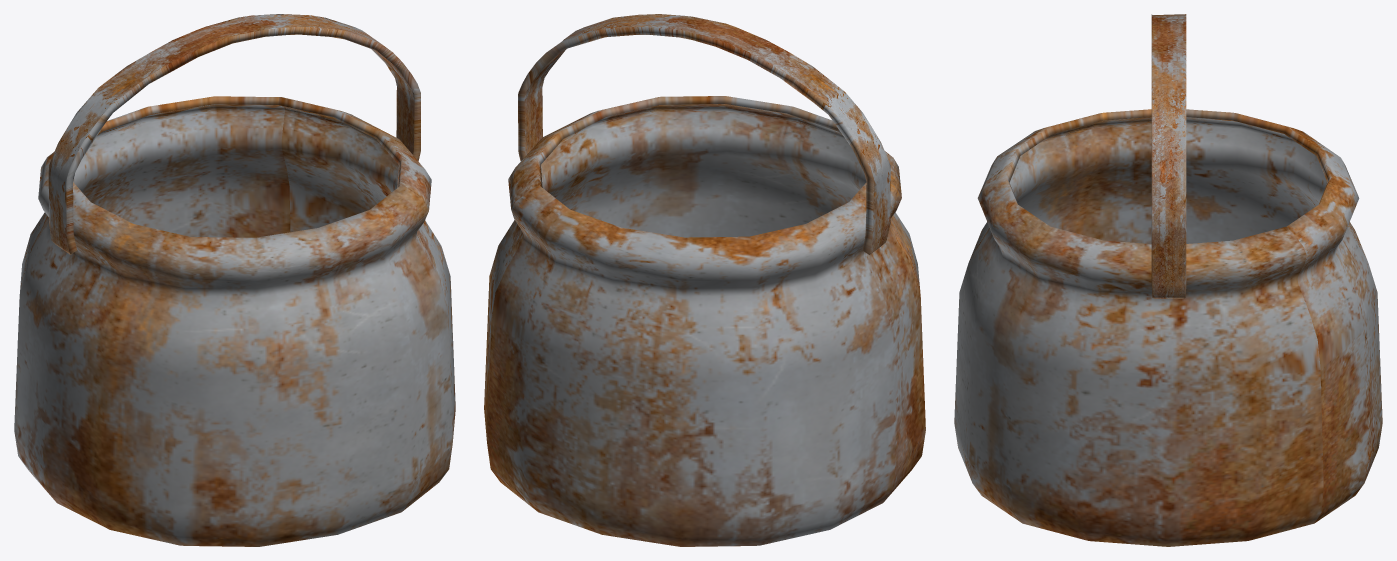
File: SM_pot01.fbx
The picture shows the model from 3 angles, left to right: view 1: azimuth 30°, elevation 25°; view 2: azimuth 150°, elevation 25°; view 3: azimuth 270°, elevation 25°; orthographic projection. The views are drawn at different scales.
Visible parts, largest first — view 1: SM_pot01_LOD0; view 2: SM_pot01_LOD0; view 3: SM_pot01_LOD0.
Part boxes in pixels (left/top/right/bottom): SM_pot01_LOD0: left=14, top=14, right=455, bottom=546; SM_pot01_LOD0: left=484, top=14, right=925, bottom=546; SM_pot01_LOD0: left=954, top=14, right=1382, bottom=546.
Size of the model in its own units: 55.84 by 55.84 by 63.6.
